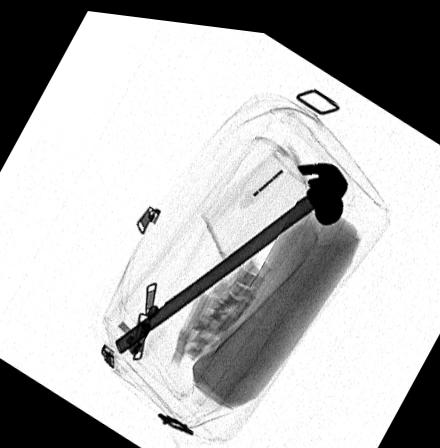Hammer: (114, 153, 349, 352)
